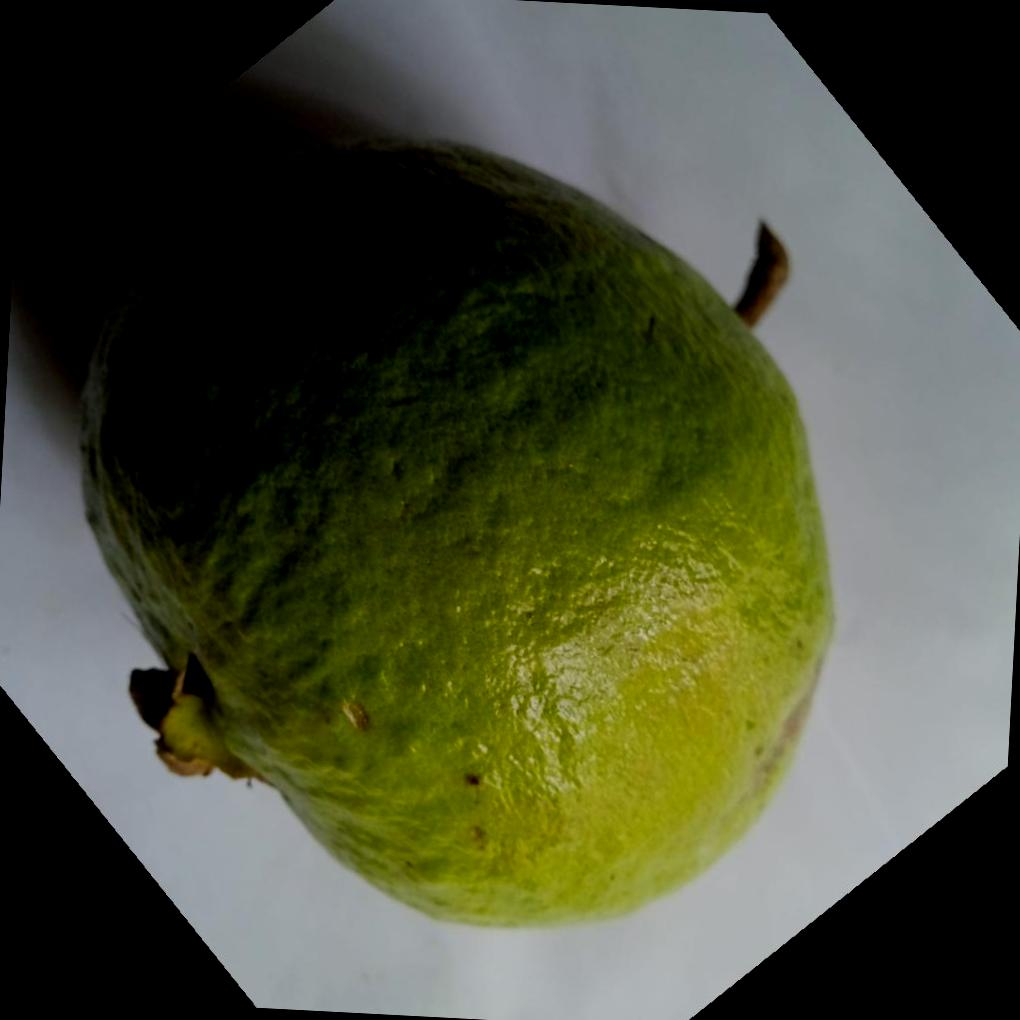FreshGuava: (77, 136, 837, 935)
